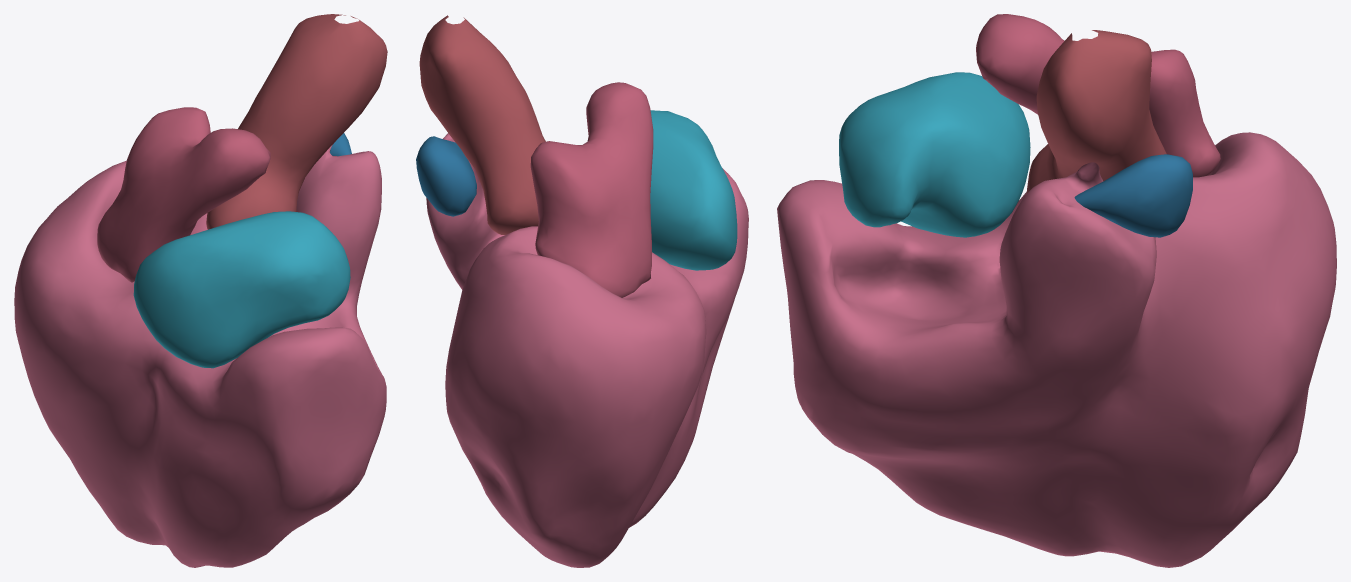
The model's file is frame_42.glb.
3 renders of one model, left to right at view 1: azimuth 30°, elevation 25°; view 2: azimuth 150°, elevation 25°; view 3: azimuth 270°, elevation 25°, orthographic. The views are drawn at different scales.
Visible parts, largest first — view 1: Renderer Node; view 2: Renderer Node; view 3: Renderer Node.
Part boxes in pixels (bbox=[...]): Renderer Node: bbox=[14, 14, 387, 567]; Renderer Node: bbox=[416, 15, 748, 567]; Renderer Node: bbox=[777, 14, 1336, 567].
Bounding box in the file's own units: 102 × 158 × 129.
